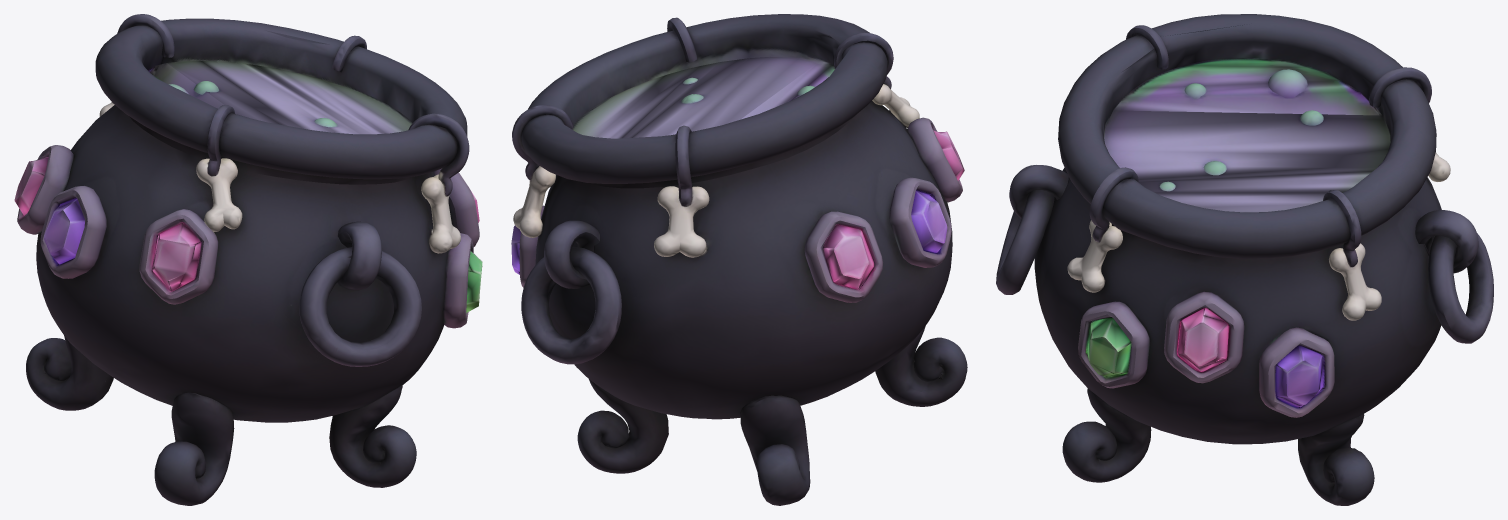
Rendered from S3_Cauldron_LOD0.fbx.
3 renders of one model, left to right at view 1: azimuth 30°, elevation 25°; view 2: azimuth 150°, elevation 25°; view 3: azimuth 270°, elevation 25°, orthographic.
Parts seen in each view (by area): view 1: S3_Cauldron_LOD0; view 2: S3_Cauldron_LOD0; view 3: S3_Cauldron_LOD0.
Part boxes in pixels (x1,y1,x2,y2): S3_Cauldron_LOD0: [14, 14, 482, 505]; S3_Cauldron_LOD0: [511, 14, 967, 505]; S3_Cauldron_LOD0: [996, 14, 1493, 505].
Bounding box in the file's own units: 0.1769 × 0.17 × 0.1907.
1 material, 1 textured.
